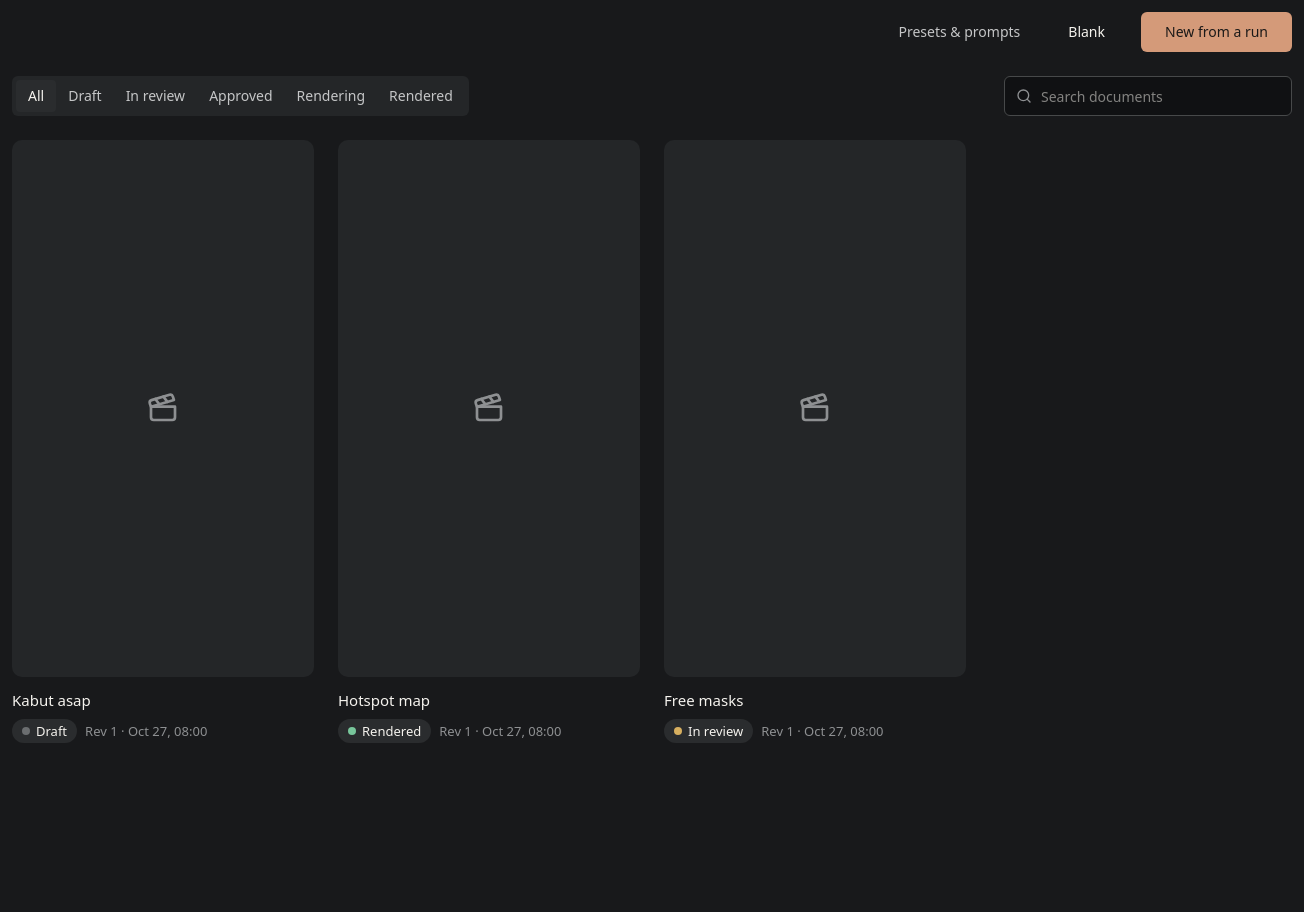
the state tabs and the search narrow the documents
The width and height of the screenshot is (1304, 912).
Expected: the link "Kabut asap Draft Rev 1 · Oct 27, 08:00" is shown, [12, 140, 314, 743]
Click the button "Rendered" at (421, 96), box [377, 80, 465, 112]
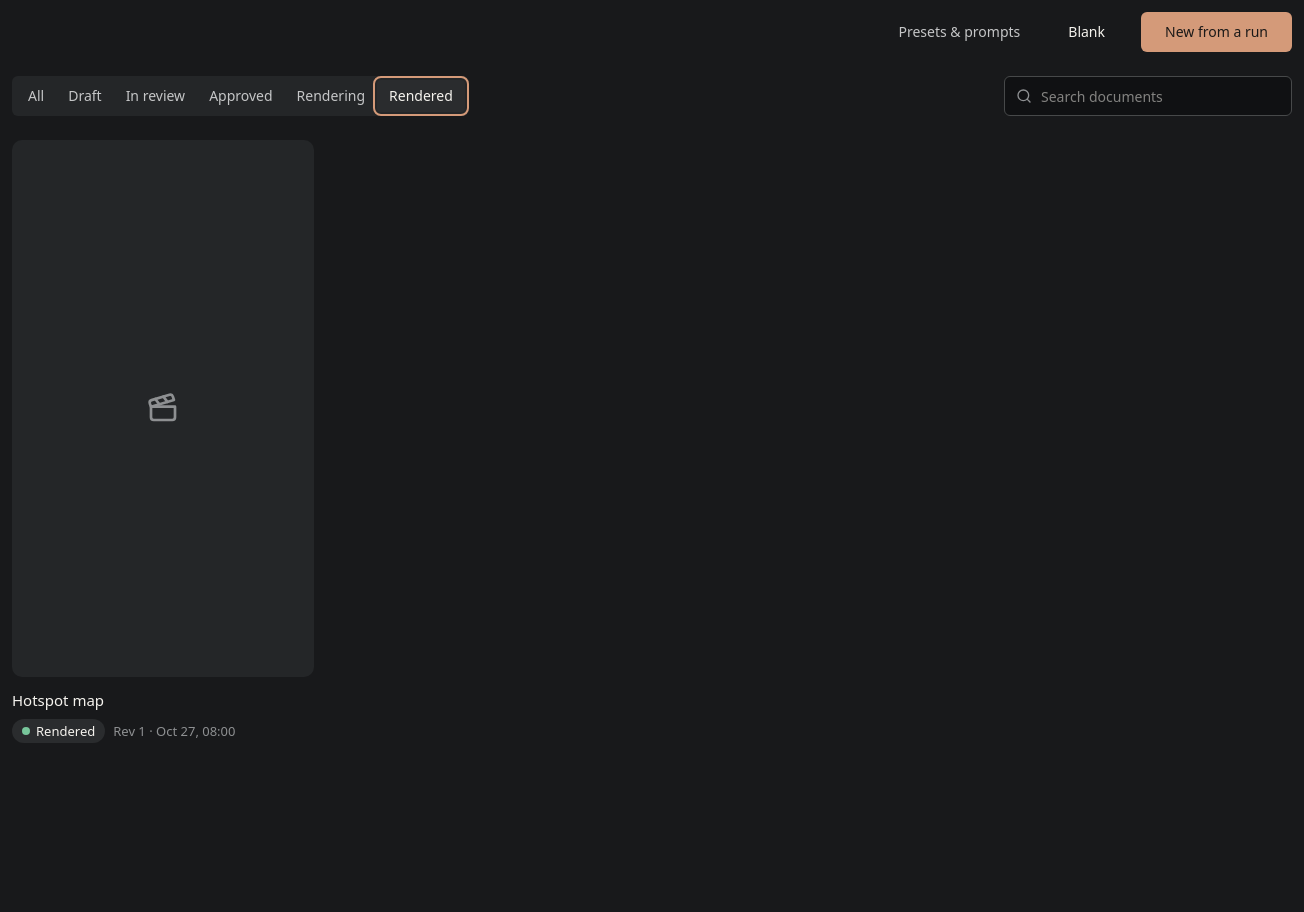
Click the button "All" at (36, 96), box [16, 80, 56, 112]
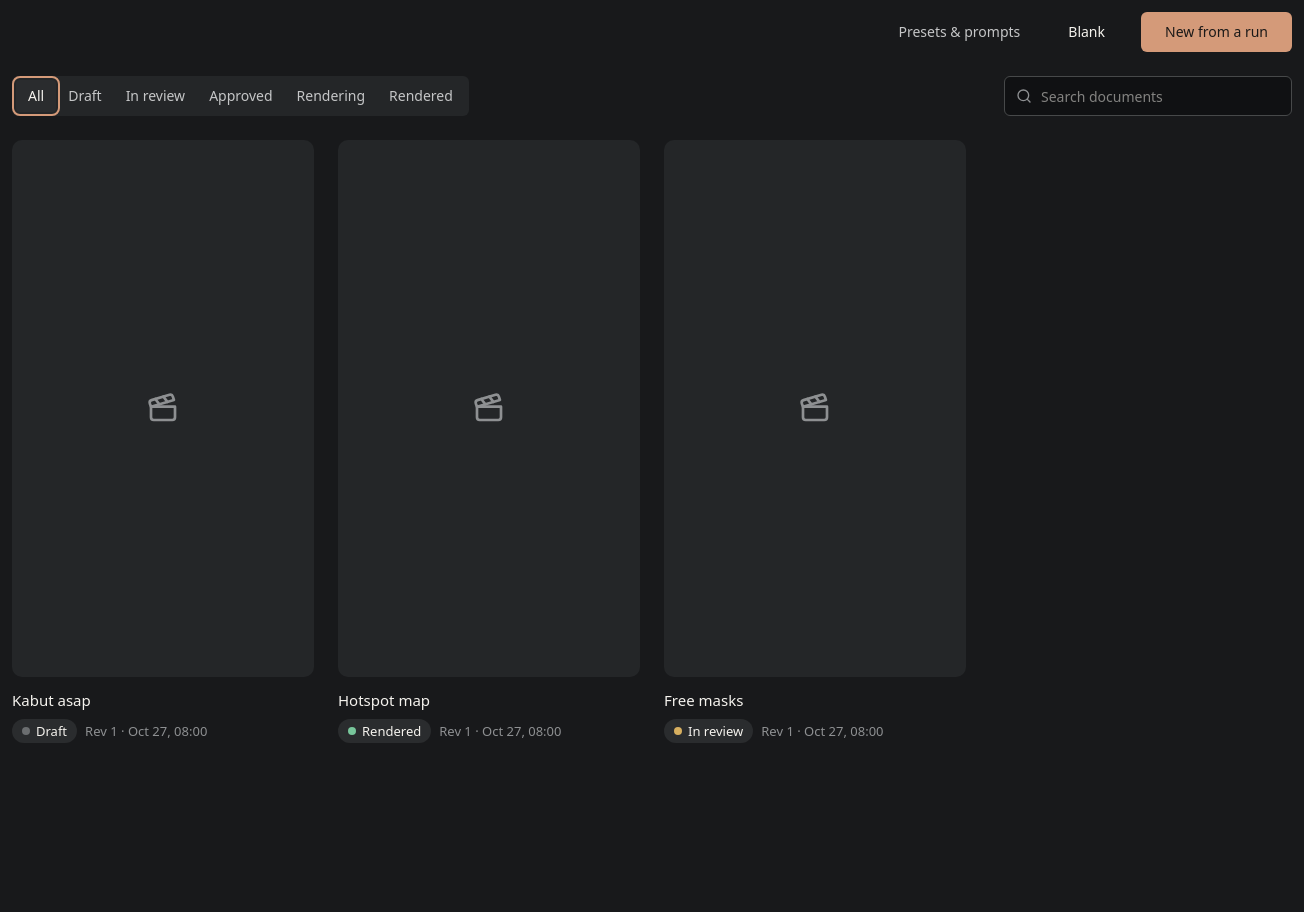
Type "warga" into the search field labelled "Search documents" at (1148, 96), box [1004, 76, 1292, 116]
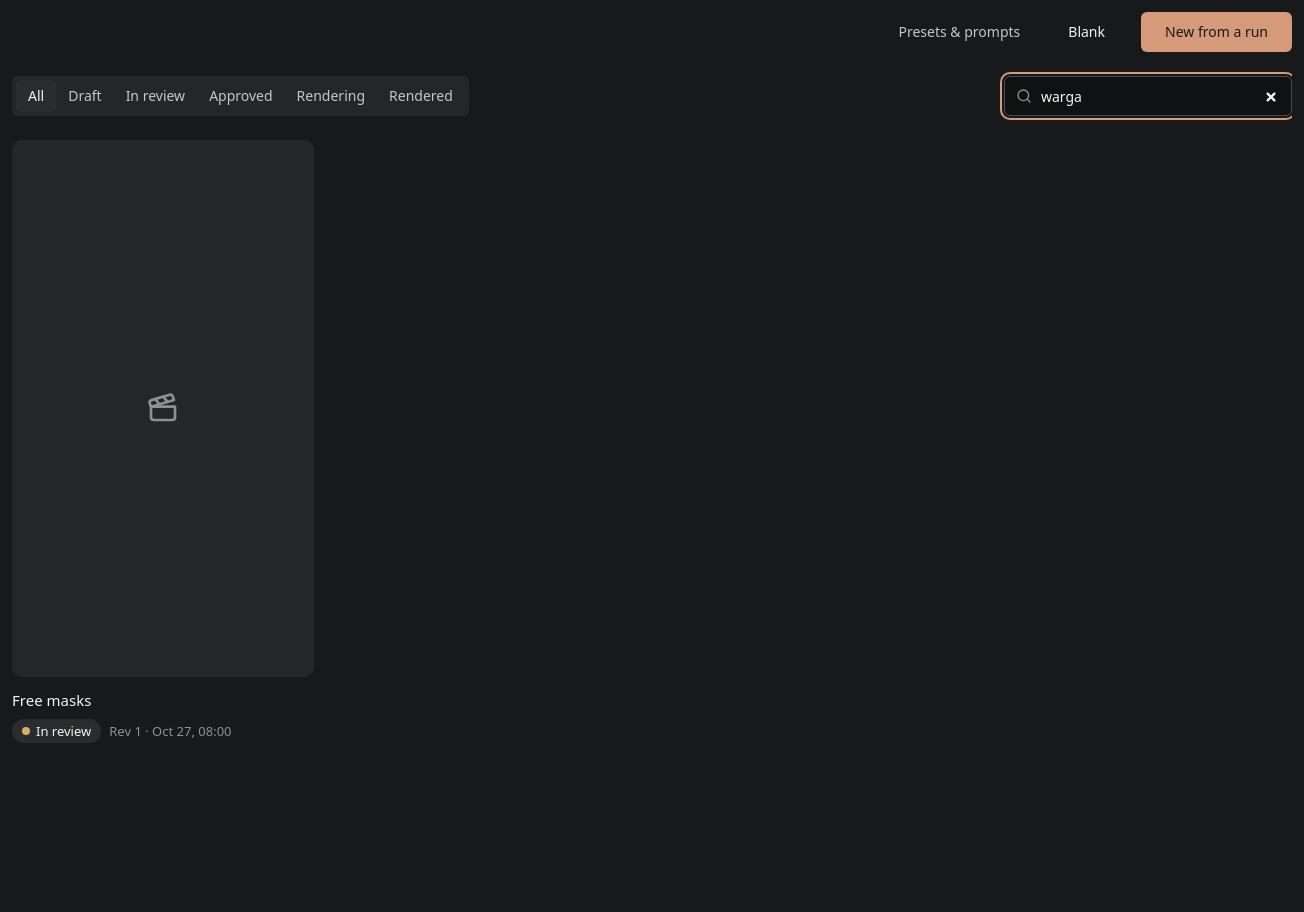
Replace the text in the search field named "Search documents" with "nothing like it" at (1148, 96), box [1004, 76, 1292, 116]
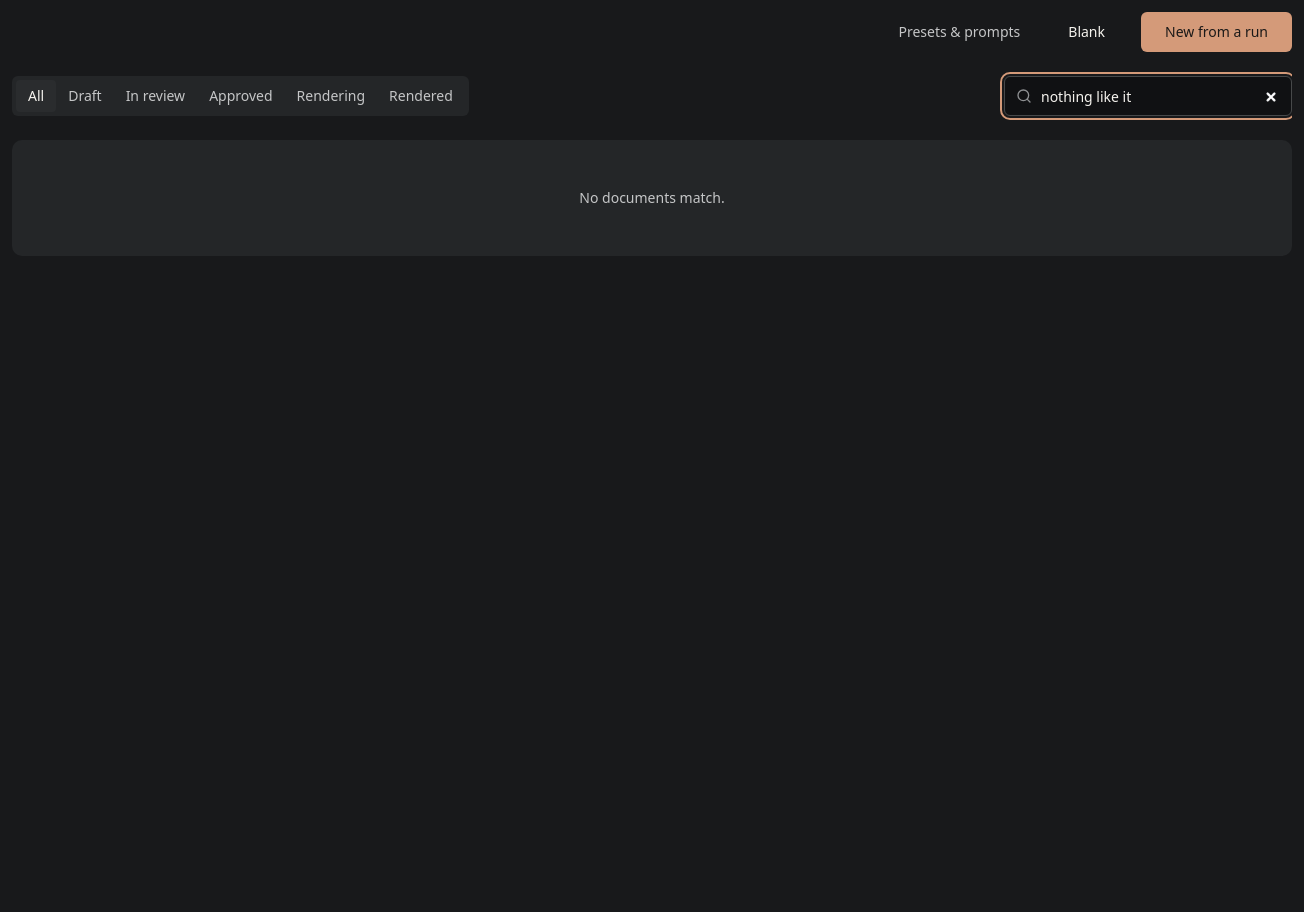
Expected: the text "No documents match." is shown, [579, 188, 725, 208]
